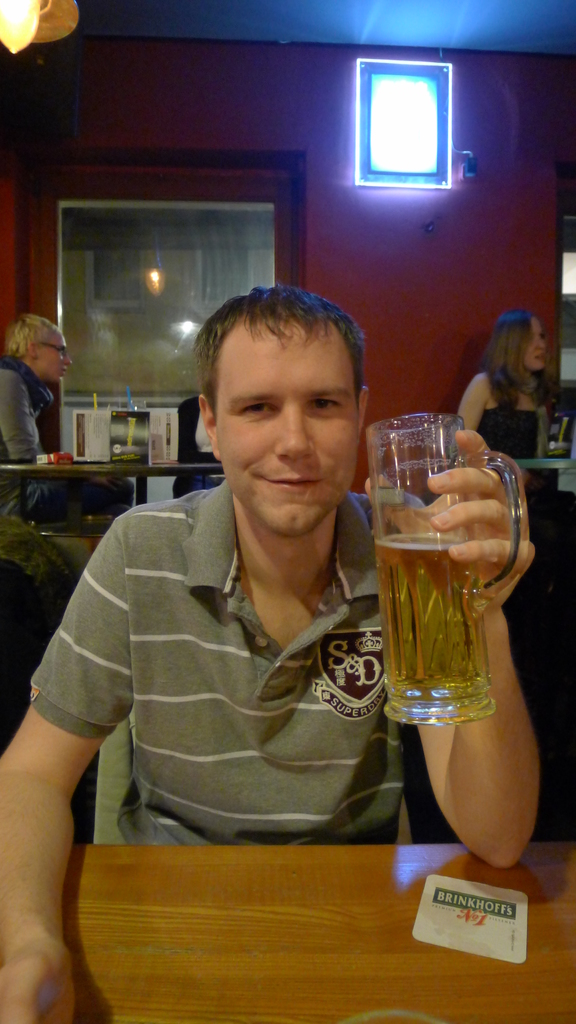Beer: (381, 533, 500, 716)
